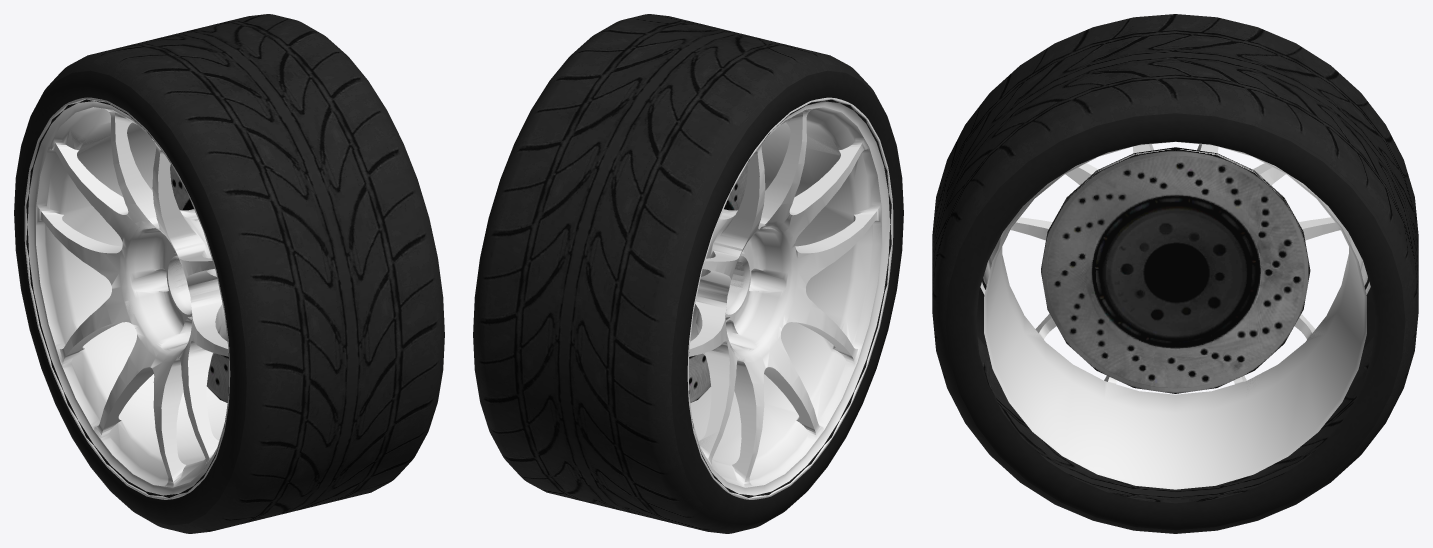
File: 10_Rota_Torque.fbx
3 views of the same model, side by side, from view 1: azimuth 30°, elevation 25°; view 2: azimuth 150°, elevation 25°; view 3: azimuth 270°, elevation 25° (orthographic).
Visible parts, largest first — view 1: Combined No Name Object 0, Rota_Torque, Combined co_contisportcontact_2_vmax_wall Object 0, Rotor; view 2: Combined No Name Object 0, Rota_Torque, Combined co_contisportcontact_2_vmax_wall Object 0, Rotor; view 3: Combined No Name Object 0, Rotor, Rota_Torque, Combined co_contisportcontact_2_vmax_wall Object 0.
Boxes of the visible parts, bbox=[...] form: Combined No Name Object 0: bbox=[14, 14, 444, 533]; Rota_Torque: bbox=[24, 97, 230, 499]; Combined co_contisportcontact_2_vmax_wall Object 0: bbox=[14, 70, 246, 525]; Rotor: bbox=[170, 164, 228, 402]; Combined No Name Object 0: bbox=[473, 14, 903, 533]; Rota_Torque: bbox=[687, 97, 893, 499]; Combined co_contisportcontact_2_vmax_wall Object 0: bbox=[671, 70, 903, 525]; Rotor: bbox=[689, 164, 747, 402]; Combined No Name Object 0: bbox=[932, 14, 1418, 533]; Rotor: bbox=[1041, 147, 1310, 393]; Rota_Torque: bbox=[980, 141, 1370, 489]; Combined co_contisportcontact_2_vmax_wall Object 0: bbox=[945, 113, 1405, 530].
Size of the model in its own units: 0.3334 by 0.688 by 0.688.
